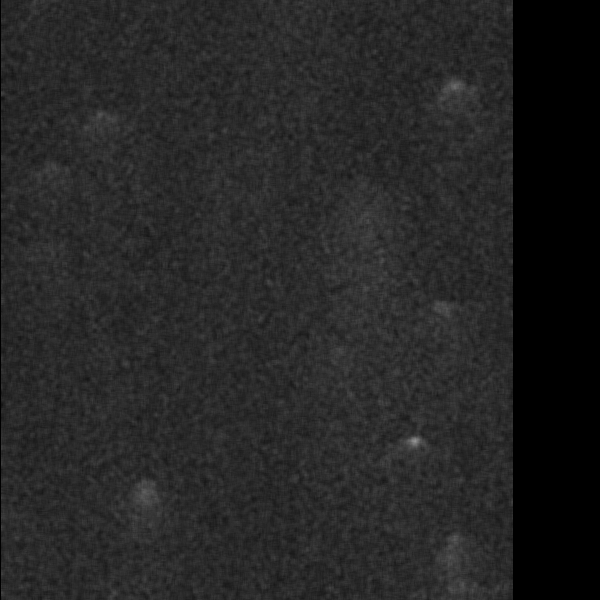spark: (96, 273, 166, 335)
